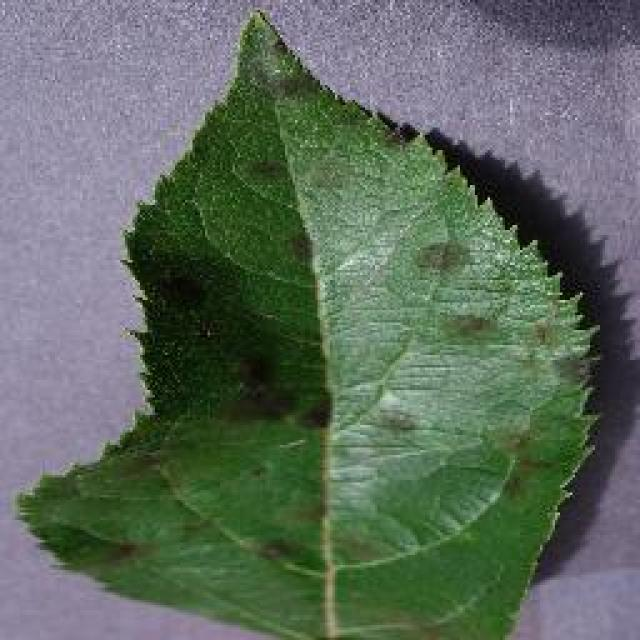apple scab disease: (15, 5, 605, 637)
